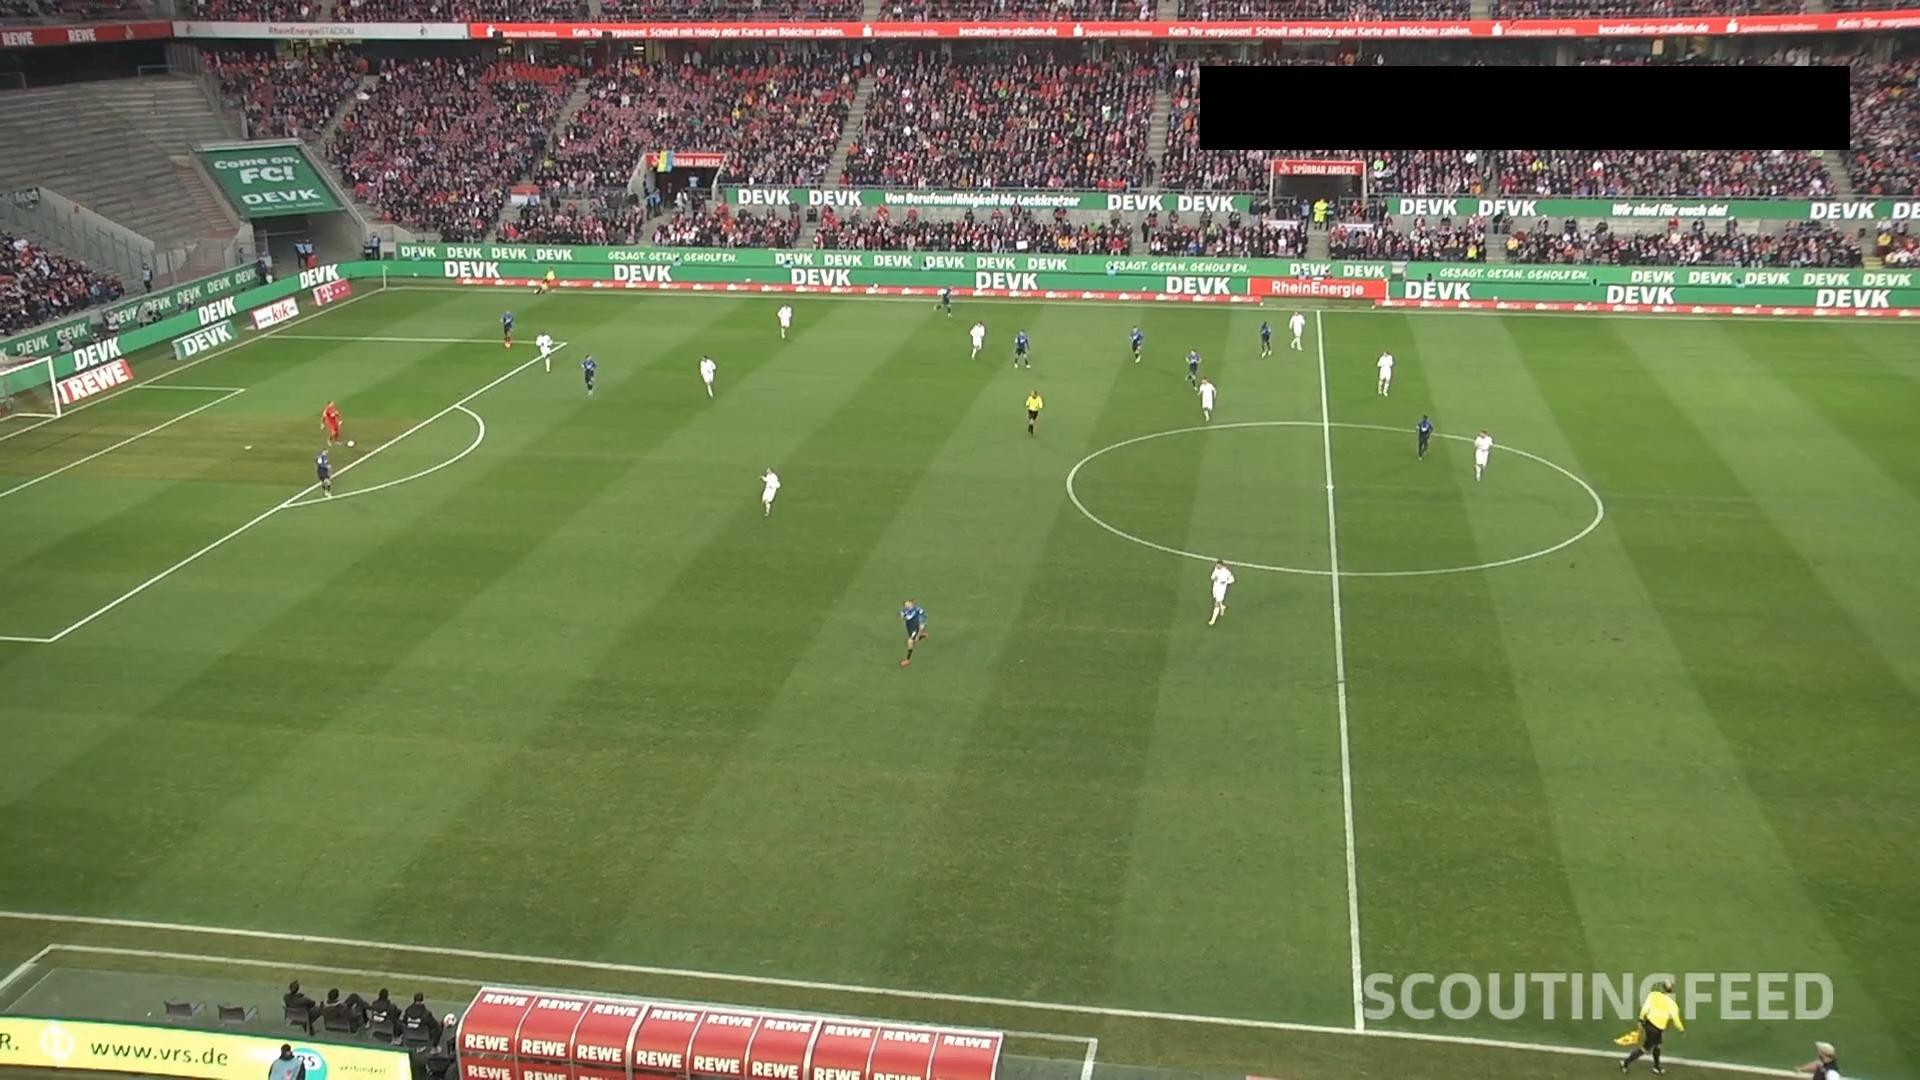ball: (347, 439, 355, 448)
